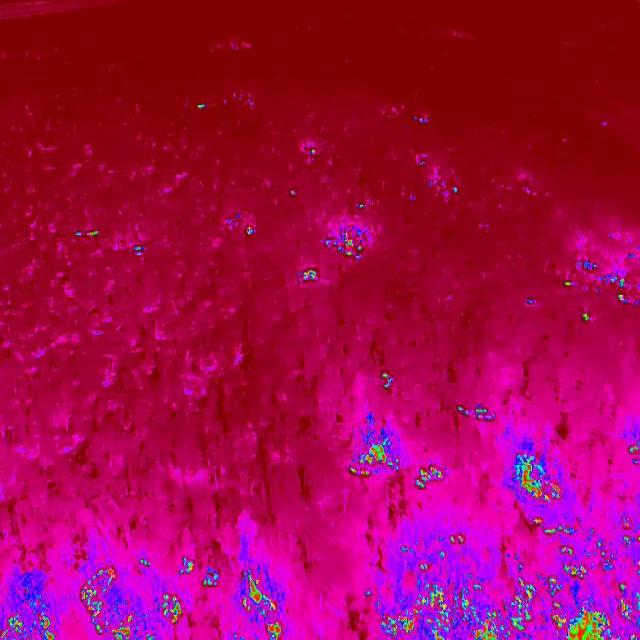fire: (349, 521, 640, 640), (0, 545, 283, 639), (342, 424, 448, 494), (562, 268, 638, 328), (295, 224, 370, 284), (506, 448, 562, 513), (70, 220, 104, 245)
